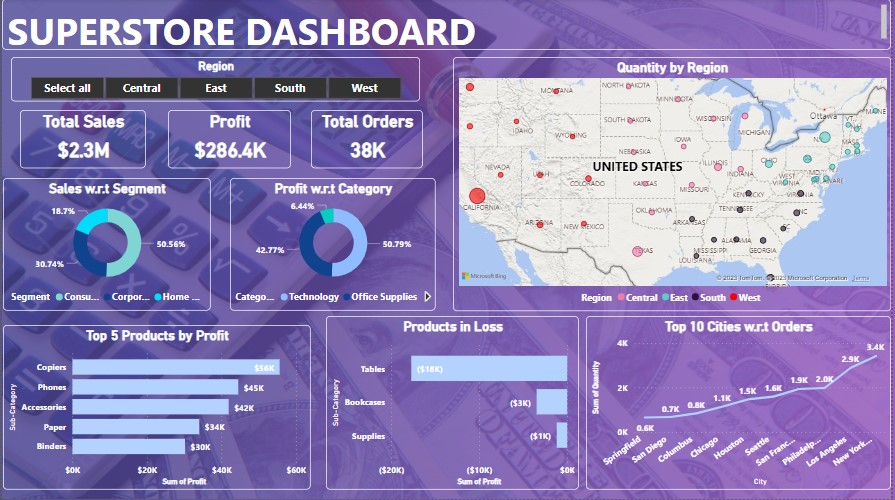

This screenshot's page, from the dashboard's own definition file:
{"tool":"powerbi","page":{"name":"Page 1","canvas":[1280,720],"ordinal":0},"visuals":[{"type":"card","title":"Profit","fields":{"Values":["SampleSuperstore (Beginner).Profit"]},"box":[239,159.8,177.1,83.5],"z":0},{"type":"card","title":"Total Sales","fields":{"Values":["SampleSuperstore (Beginner).Sales"]},"box":[25.9,159.8,181.4,83.5],"z":1000},{"type":"card","title":"Total Orders","fields":{"Values":["SampleSuperstore (Beginner).Quantity"]},"box":[445,159.8,161.3,83.5],"z":2000},{"type":"donutChart","title":"Sales w.r.t Segment","fields":{"Category":["SampleSuperstore (Beginner).Segment"],"Y":["SampleSuperstore (Beginner).Sales"]},"box":[1.4,257.1,298.6,191.4],"z":3000},{"type":"textbox","box":[0,0,1280.2,73.4],"z":4000},{"type":"pieChart","title":"Profit w.r.t Category","fields":{"Y":["SampleSuperstore (Beginner).Profit"],"Category":["SampleSuperstore (Beginner).Category"]},"box":[328.6,257.1,295.7,191.4],"z":5000},{"type":"map","title":"Quantity by Region","fields":{"Category":["SampleSuperstore (Beginner).State"],"Size":["SampleSuperstore (Beginner).Quantity"],"Series":["SampleSuperstore (Beginner).Region"]},"box":[649.4,83.5,630.7,365.8],"z":6000},{"type":"barChart","title":"Top 5 Products by Profit","fields":{"Category":["SampleSuperstore (Beginner).Sub-Category"],"Y":["SampleSuperstore (Beginner).Profit"]},"box":[1.4,470,442.9,237.1],"z":7000},{"type":"barChart","title":"Products in Loss","fields":{"Category":["SampleSuperstore (Beginner).Sub-Category"],"Y":["SampleSuperstore (Beginner).Profit"]},"box":[467.1,457.1,364.3,250],"z":8000},{"type":"lineChart","title":"Top 10 Cities w.r.t Orders","fields":{"Category":["SampleSuperstore (Beginner).City"],"Y":["SampleSuperstore (Beginner).Quantity"]},"box":[841.4,457.1,438.6,250],"z":9000},{"type":"slicer","title":"Region","fields":{"Values":["SampleSuperstore (Beginner).Region"]},"box":[12.9,82.9,588.6,64.3],"z":10000}]}

Visuals, with their boxes in screenshot pixels (x1, y1, x2, y2), scaled from the page's 1280x720 canvas onto the 895x500 screenshot:
"Profit" card: [167, 111, 291, 169]
"Total Sales" card: [18, 111, 145, 169]
"Total Orders" card: [311, 111, 424, 169]
"Sales w.r.t Segment" donutChart: [1, 179, 210, 311]
textbox: [0, 0, 894, 51]
"Profit w.r.t Category" pieChart: [230, 179, 437, 311]
"Quantity by Region" map: [454, 58, 894, 312]
"Top 5 Products by Profit" barChart: [1, 326, 311, 491]
"Products in Loss" barChart: [327, 317, 581, 491]
"Top 10 Cities w.r.t Orders" lineChart: [588, 317, 894, 491]
"Region" slicer: [9, 58, 421, 102]
